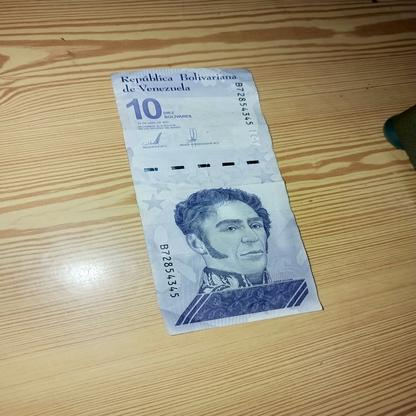ten-front-vef: (111, 66, 323, 336)
